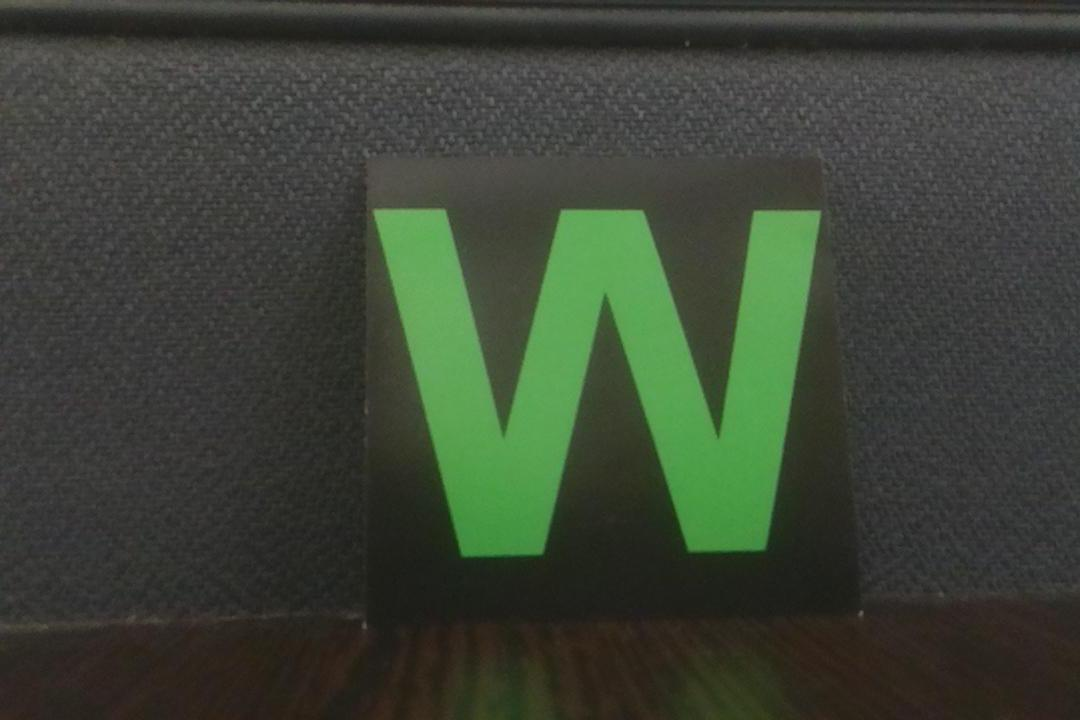w: (366, 154, 861, 615)
